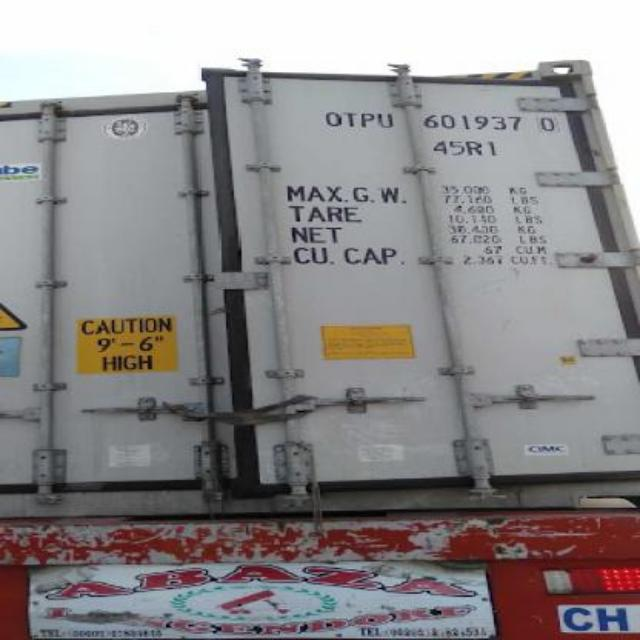0: (436, 112, 458, 132), (536, 117, 560, 133)
1: (454, 115, 472, 131)
3: (490, 114, 510, 134)
6: (420, 114, 440, 130)
7: (504, 114, 526, 134)
9: (471, 113, 492, 131)
O: (322, 111, 342, 127)
P: (356, 110, 376, 130)
T: (342, 111, 360, 129)
U: (372, 113, 398, 129)
